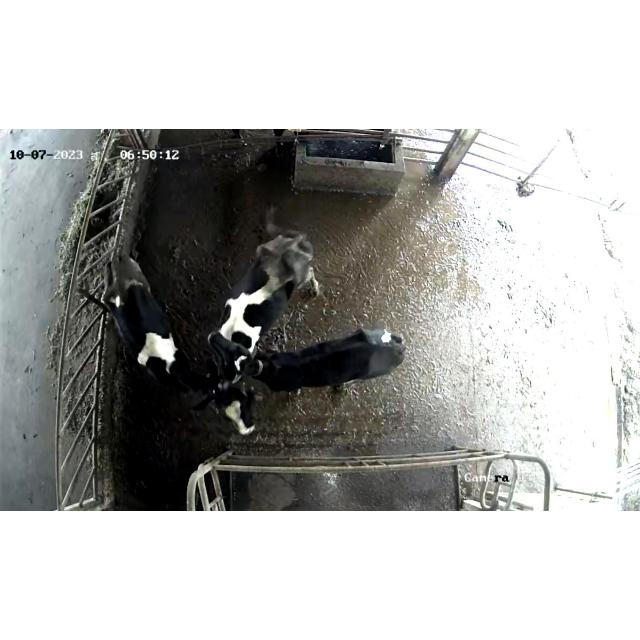propping: (200, 324, 296, 392)
